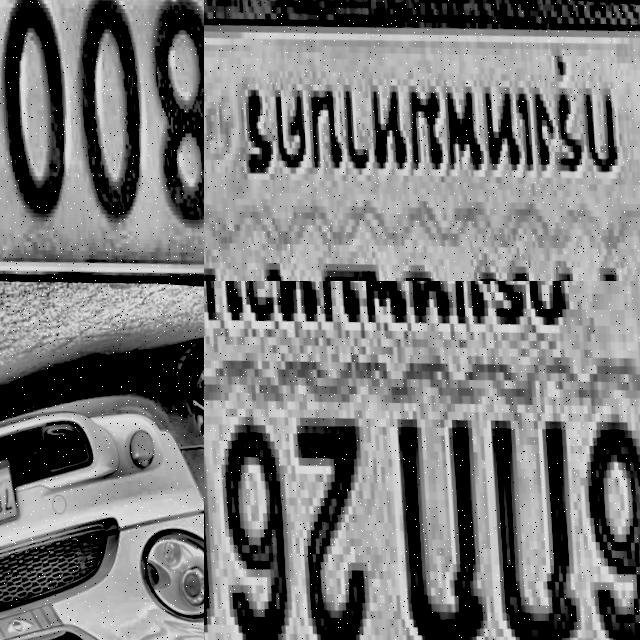license-plate: (204, 281, 640, 640), (204, 0, 640, 281), (0, 0, 204, 281), (0, 452, 21, 549)
